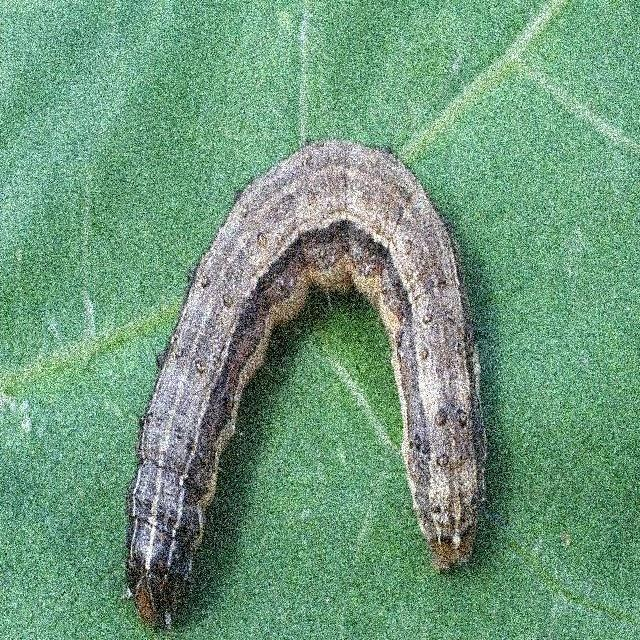gusano_cogollero: (119, 138, 487, 640)
